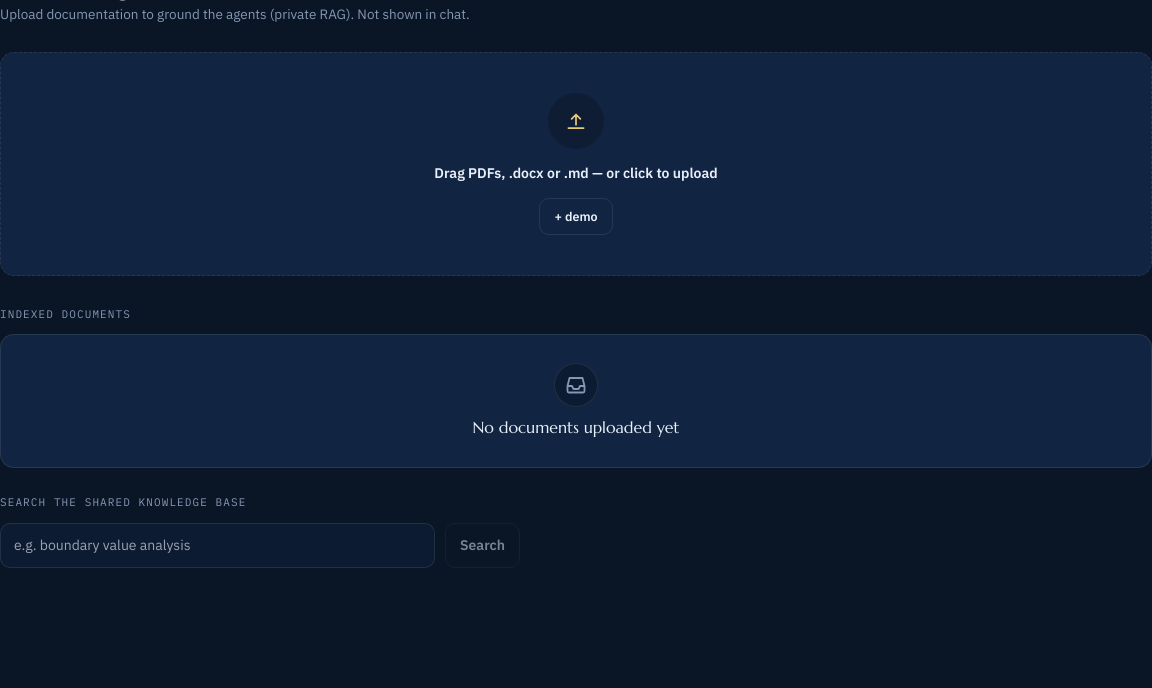
it: KnowledgeScreen › shows the EmptyState when a search returns no matches
Type "no-such-term" into the field named "Search query" at (218, 545), box [0,523,435,568]
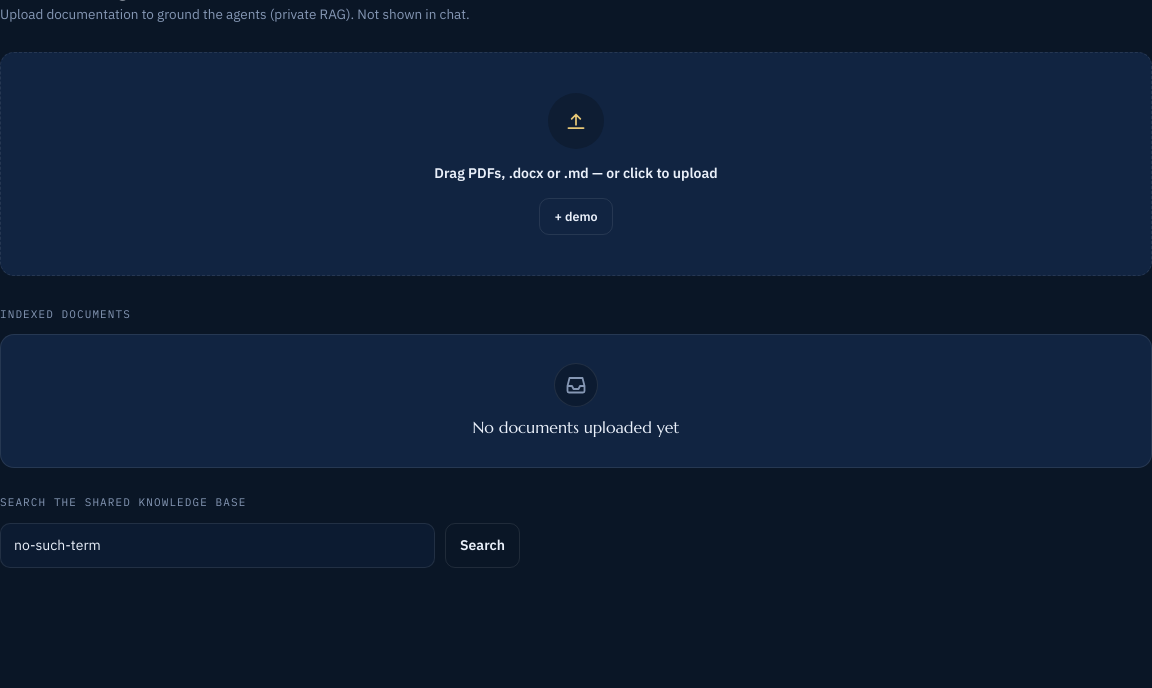
Click the button "Search" at (482, 545), box [445,523,520,568]
(page scrolled)
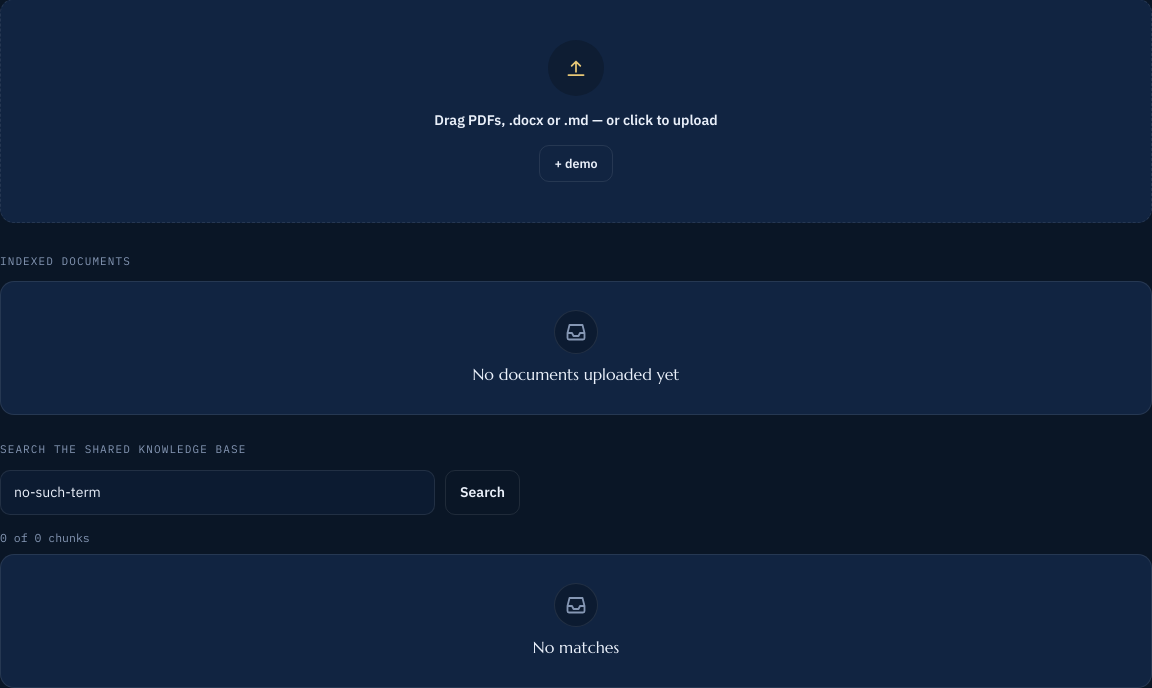
Now the text "No matches" is shown, box [533,635,619,659]
